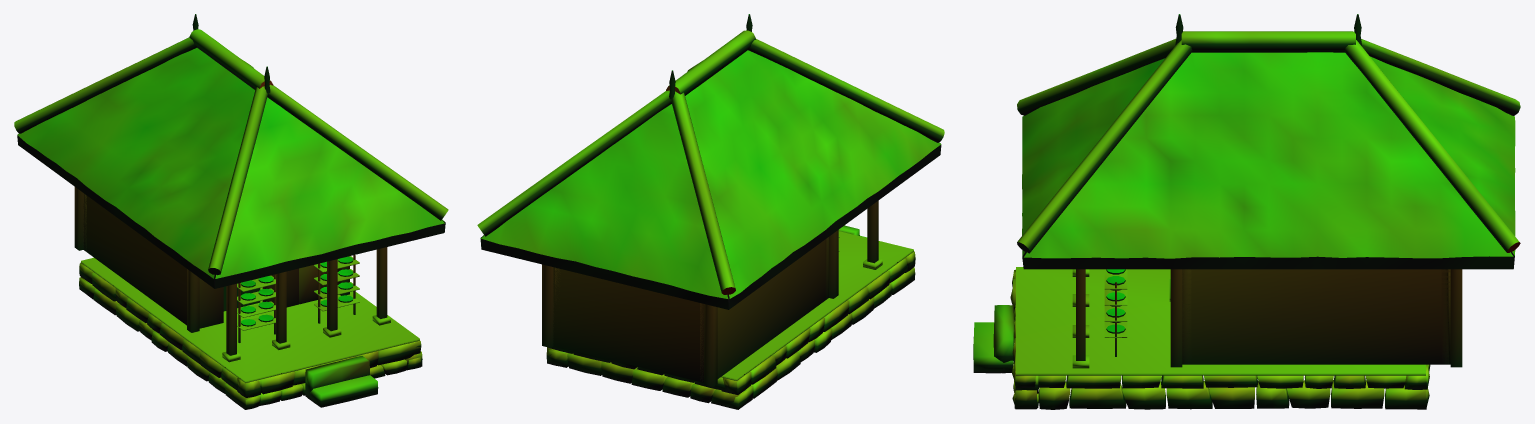
Rendered from house_pemakar_b.glb.
3 renders of one model, left to right at view 1: azimuth 30°, elevation 25°; view 2: azimuth 150°, elevation 25°; view 3: azimuth 270°, elevation 25°, orthographic. The views are drawn at different scales.
Visible parts, largest first — view 1: house_pemakar_b; view 2: house_pemakar_b; view 3: house_pemakar_b.
Boxes of the visible parts, x1,y1,x2,y2 form: house_pemakar_b: [14, 14, 448, 409]; house_pemakar_b: [477, 14, 944, 409]; house_pemakar_b: [973, 14, 1520, 409].
Size of what is drawn, in the model's own units: 5.42 by 5.93 by 8.6.
